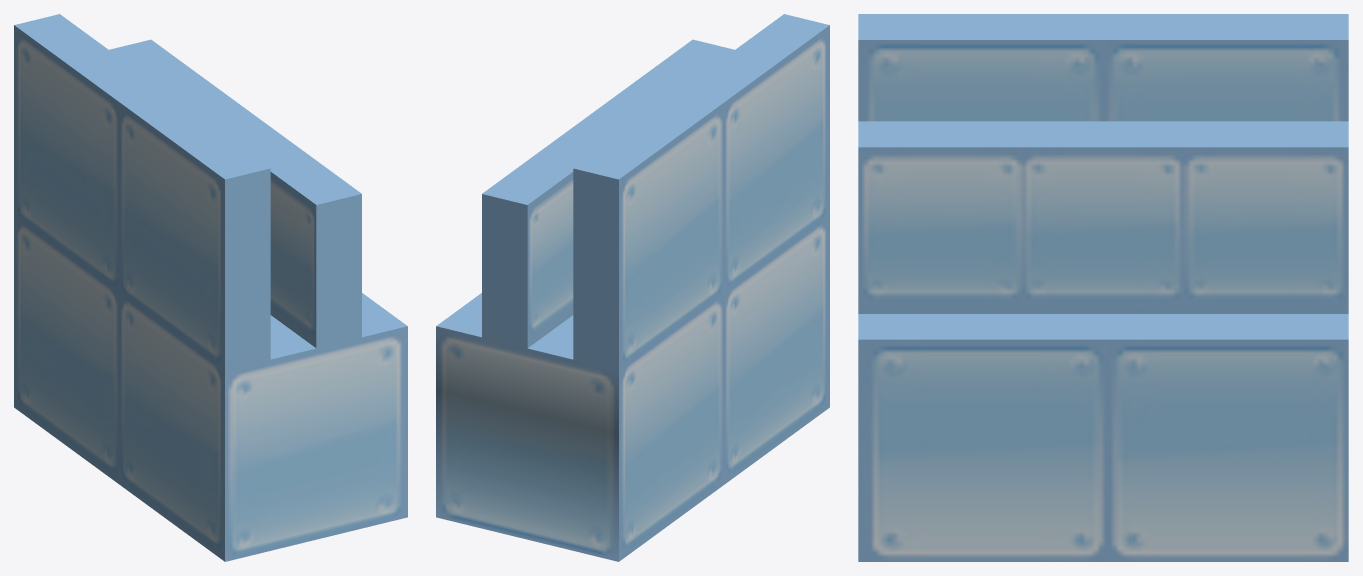
File: dangerfloor2a.FBX
3 renders of one model, left to right at view 1: azimuth 30°, elevation 25°; view 2: azimuth 150°, elevation 25°; view 3: azimuth 270°, elevation 25°, orthographic. The views are drawn at different scales.
Parts seen in each view (by area): view 1: dangerfloor2a; view 2: dangerfloor2a; view 3: dangerfloor2a.
Boxes of the visible parts, left/top/right/bottom form: dangerfloor2a: left=14, top=14, right=407, bottom=561; dangerfloor2a: left=436, top=14, right=829, bottom=561; dangerfloor2a: left=858, top=14, right=1348, bottom=561.
Size of the model in its own units: 19.69 by 39.37 by 39.37.
1 material, 1 textured.
